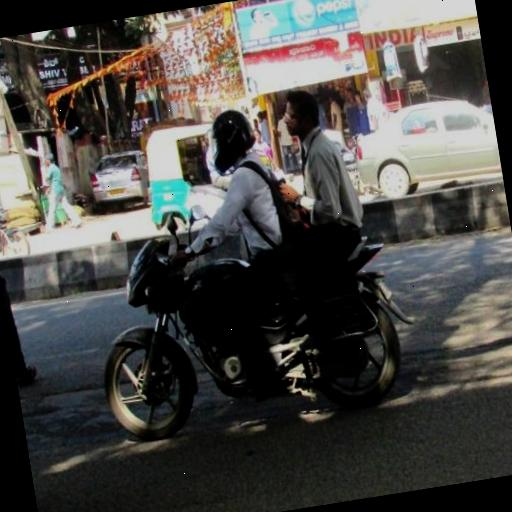helmet: (90, 89, 328, 446)
